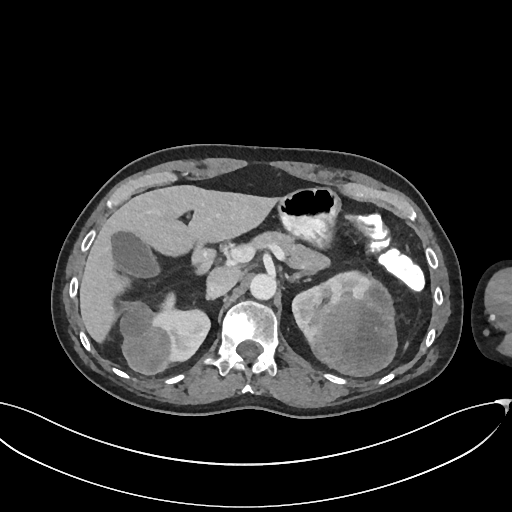Lesion: (119, 301, 174, 377)
